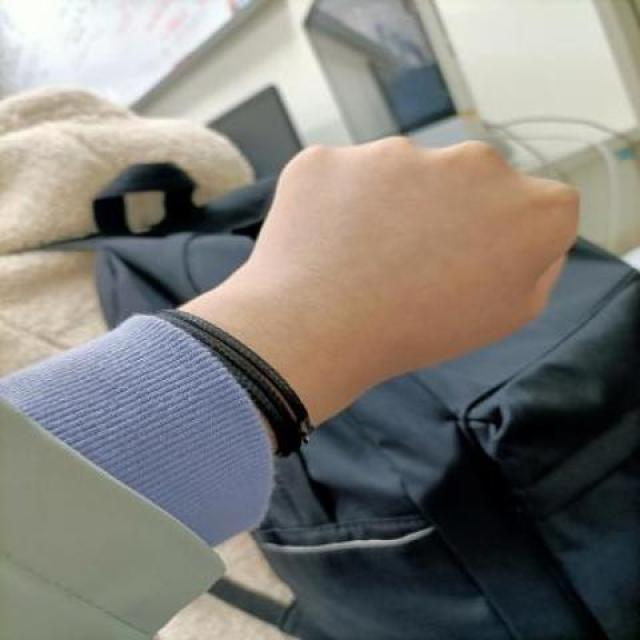Closed Hand: (220, 107, 576, 365)
